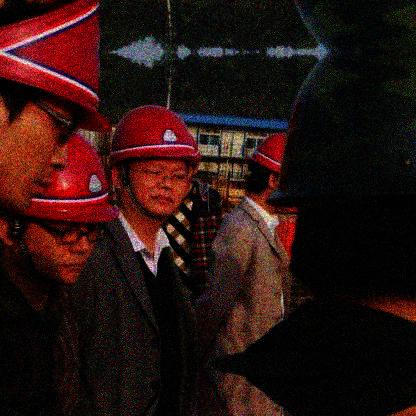helmet: (263, 51, 416, 324), (1, 49, 113, 215), (24, 134, 121, 287), (108, 104, 199, 217), (246, 132, 290, 217)
